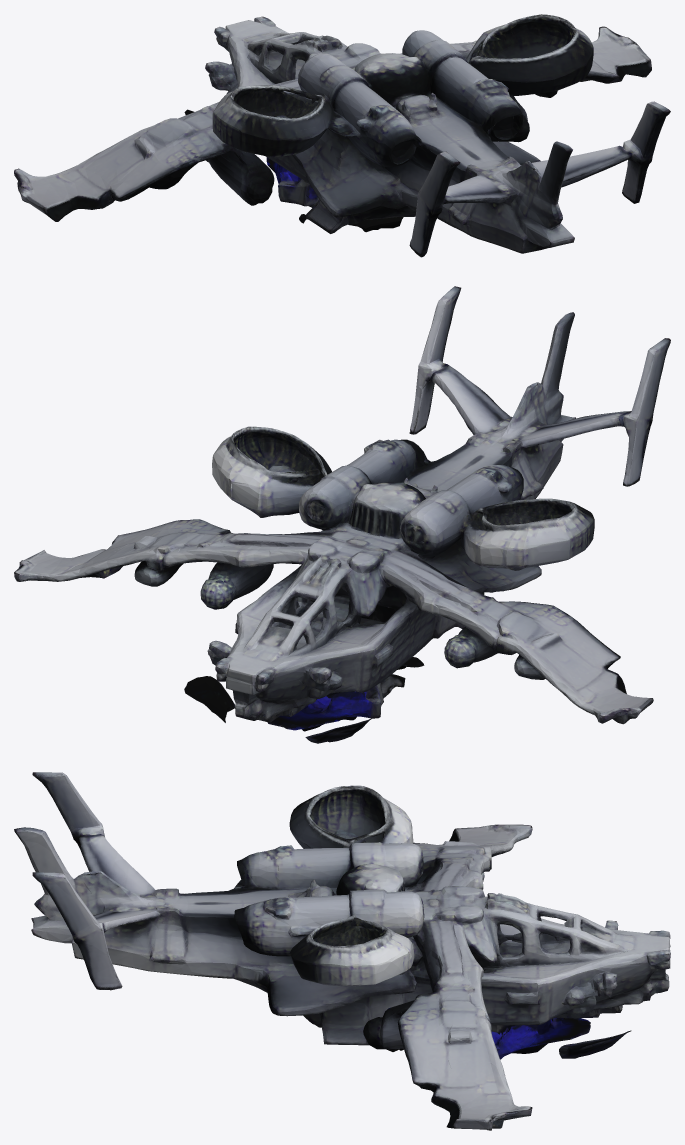
Rendered from Grey Ruler.glb.
The picture shows the model from 3 angles, top to bottom: view 1: azimuth 30°, elevation 25°; view 2: azimuth 150°, elevation 25°; view 3: azimuth 270°, elevation 25°; orthographic projection.
Parts seen in each view (by area): view 1: world; view 2: world; view 3: world.
Part boxes in pixels (bbox=[...]): world: bbox=[14, 14, 670, 257]; world: bbox=[14, 286, 670, 743]; world: bbox=[14, 772, 670, 1130].
Size of the model in its own units: 0.9996 by 0.3616 by 0.9371.
Materials: 1 (1 with a texture image).
